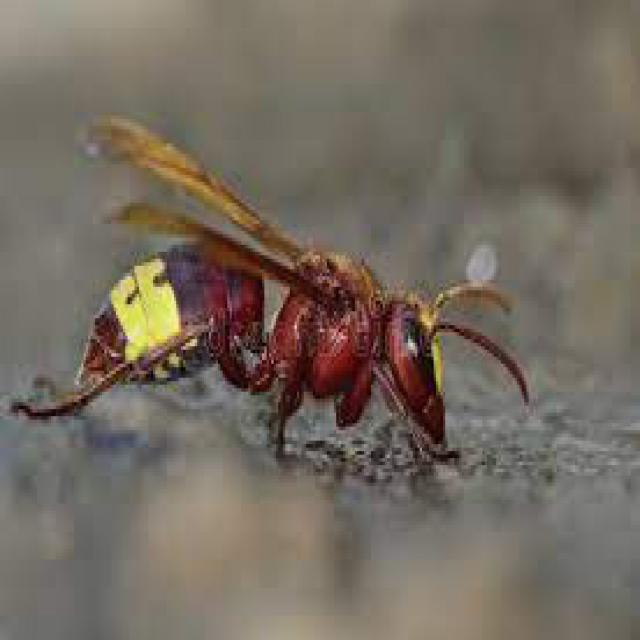Vespa Orientalis: (5, 85, 549, 547)
